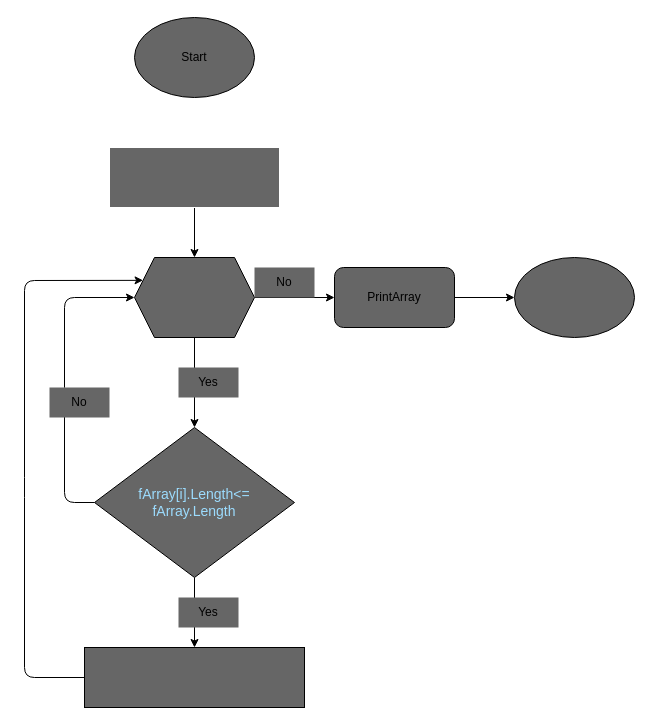
The diagram is 652 pixels wide and 725 high, and some of its shapes have lost their labels. Here are the shapes that lost their labels. From the top down, the centre of each, then its label:
the point at 194,177: string[]firstArray string[] secondArray int count = 0
the point at 194,297: for int i=0 i<fArray.Length i++
the point at 574,297: End
the point at 194,677: sArray[count]=fArray[i] count++
